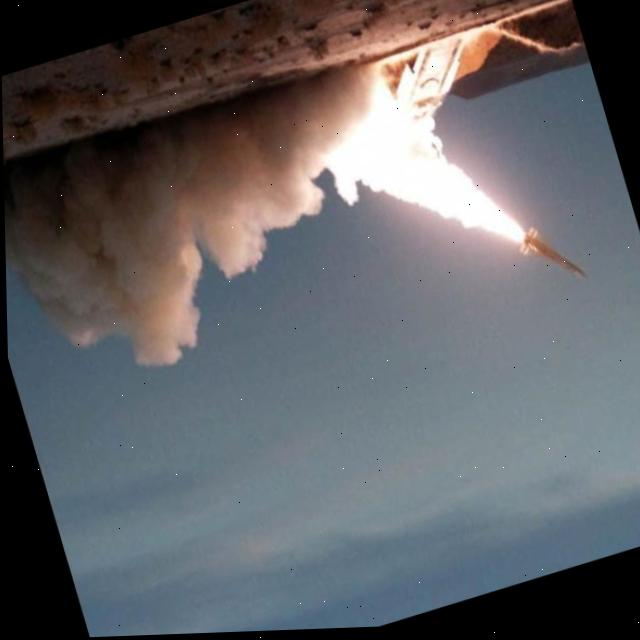missile: (519, 224, 586, 297)
